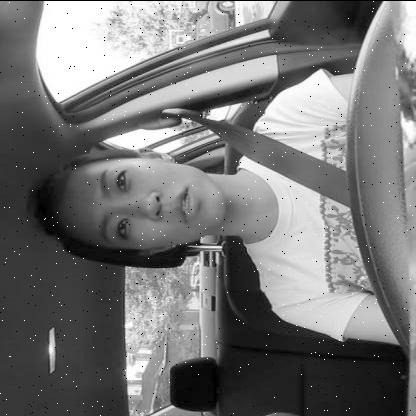seatbelt: (9, 102, 355, 270)
